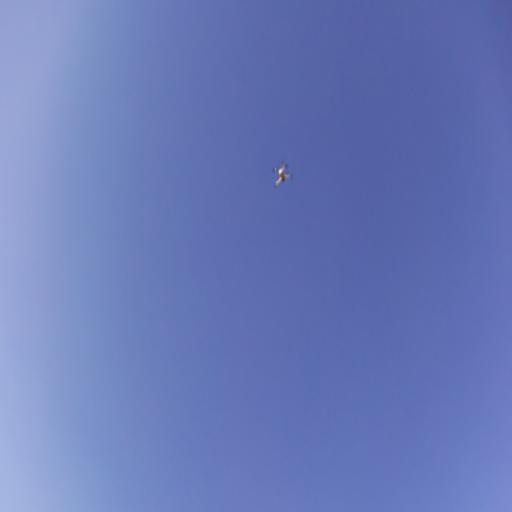drones: (269, 154, 296, 196)
